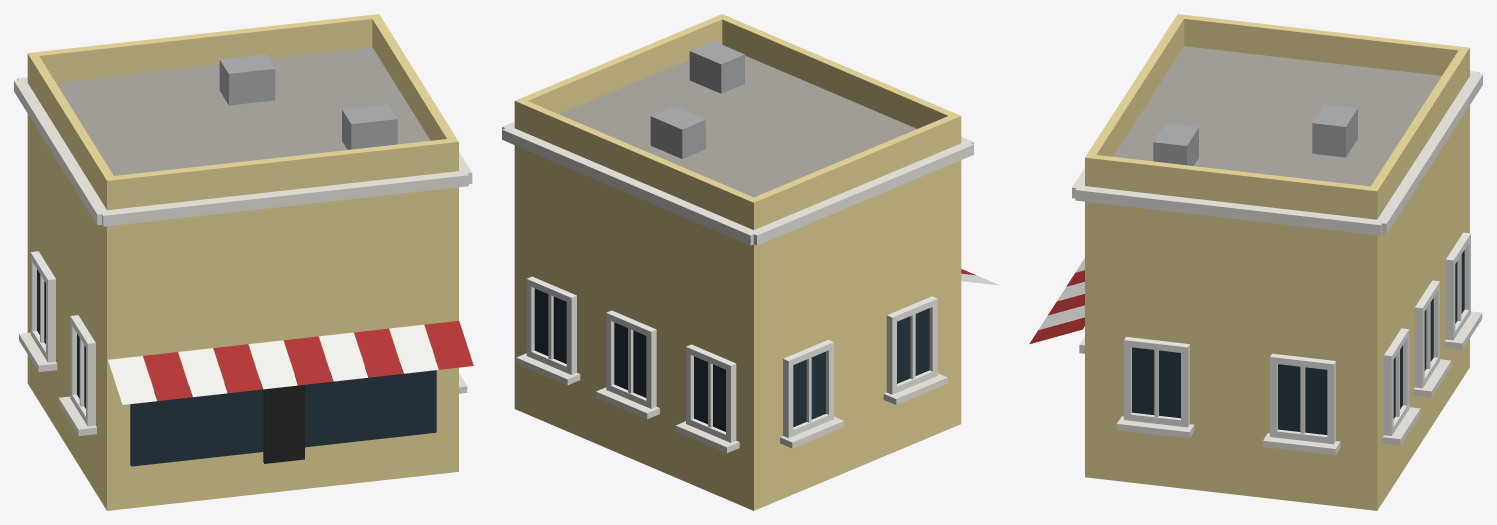
3 renders of one model, left to right at view 1: azimuth 30°, elevation 25°; view 2: azimuth 150°, elevation 25°; view 3: azimuth 270°, elevation 25°, orthographic. The views are drawn at different scales.
Visible parts, largest first — view 1: b10154; view 2: b10154; view 3: b10154.
Part boxes in pixels (bbox=[...]): b10154: bbox=[14, 14, 473, 510]; b10154: bbox=[502, 14, 1000, 510]; b10154: bbox=[1029, 14, 1482, 510].
Size of the model in its own units: 3855 by 3067 by 3909.
